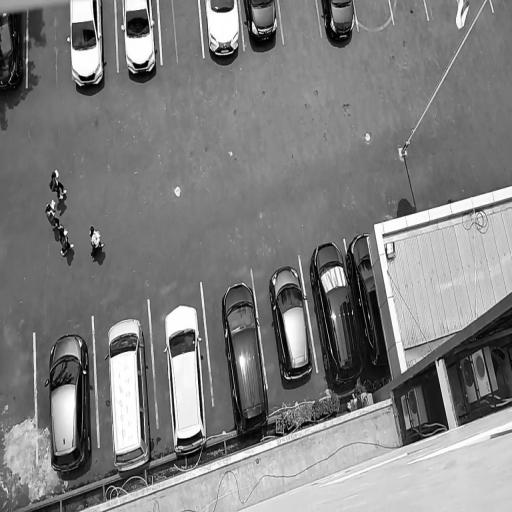Car: (214, 273, 274, 439), (310, 227, 366, 402), (100, 313, 156, 476), (40, 328, 98, 480), (160, 298, 214, 458), (345, 223, 392, 395), (267, 258, 317, 388), (68, 0, 109, 93), (117, 0, 160, 81), (200, 0, 244, 62), (0, 9, 26, 101), (242, 0, 282, 49), (320, 0, 360, 47)
Space Available: (0, 335, 37, 468), (27, 0, 71, 87), (159, 0, 203, 66), (277, 0, 321, 42), (354, 0, 397, 30), (390, 0, 428, 24)
